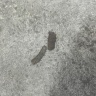Dog: (31, 45, 48, 65), (48, 31, 56, 50)
